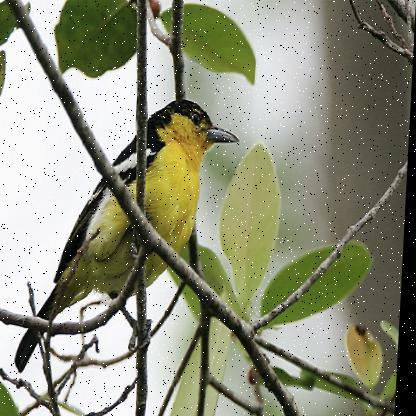Burung: (19, 99, 243, 373)
